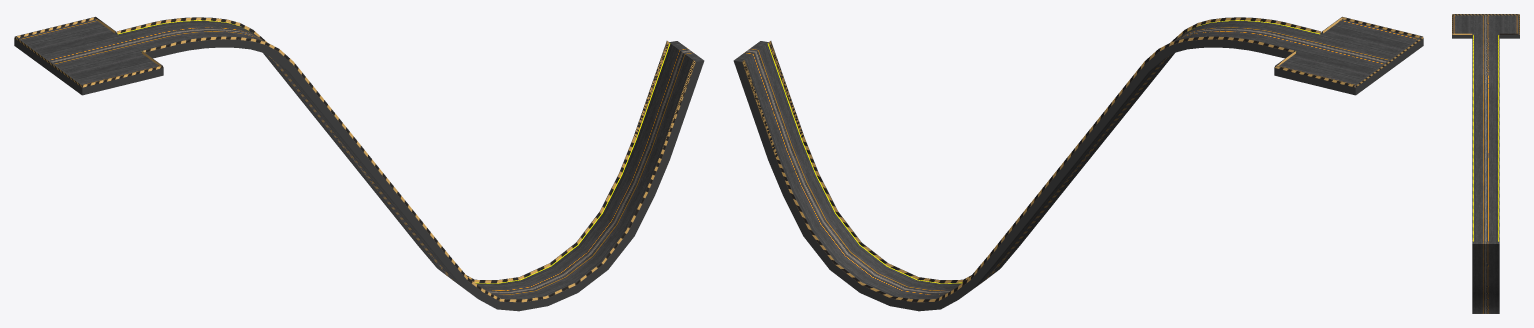
File: Road (1).fbx
3 renders of one model, left to right at view 1: azimuth 30°, elevation 25°; view 2: azimuth 150°, elevation 25°; view 3: azimuth 270°, elevation 25°, orthographic. The views are drawn at different scales.
Visible parts, largest first — view 1: Platform_z; view 2: Platform_z; view 3: Platform_z.
Part boxes in pixels (x1=…): Platform_z: x1=14, y1=16, x2=704, y2=311; Platform_z: x1=733, y1=16, x2=1423, y2=311; Platform_z: x1=1452, y1=14, x2=1519, y2=313.
Size of the model in its own units: 888 by 468 by 162.
4 materials, 2 textured.
